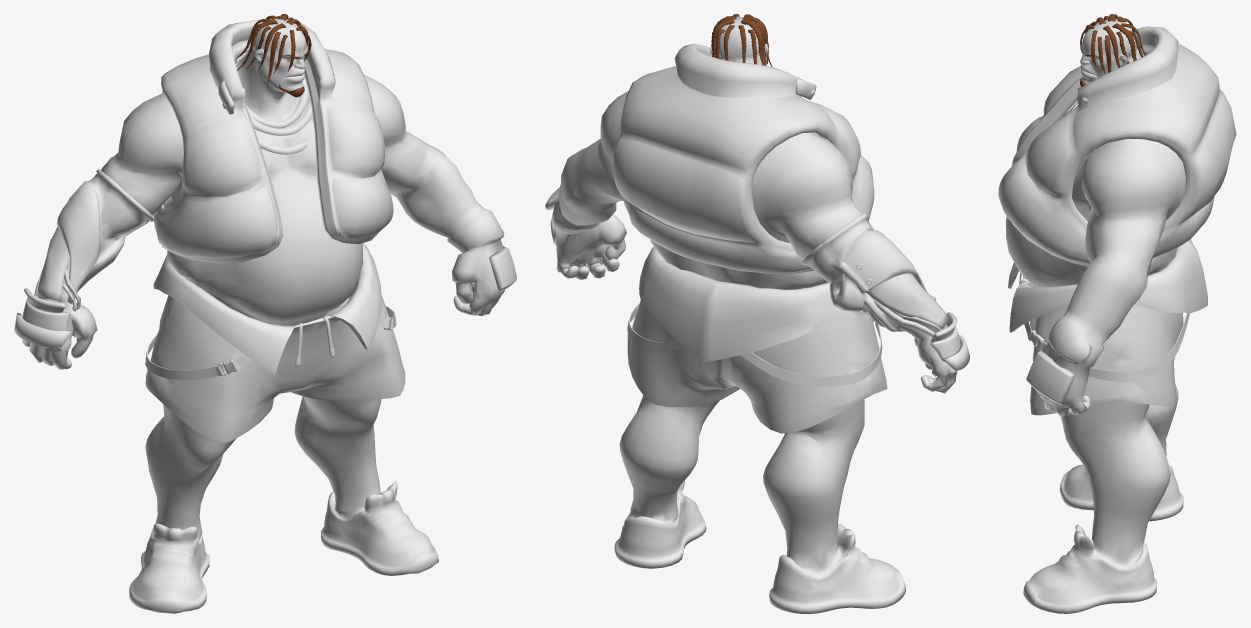
The model's file is fighter_posed_001.glb.
The picture shows the model from 3 angles, left to right: view 1: azimuth 30°, elevation 25°; view 2: azimuth 150°, elevation 25°; view 3: azimuth 270°, elevation 25°; orthographic projection. The views are drawn at different scales.
Visible parts, largest first — view 1: figther_low.003; view 2: figther_low.003; view 3: figther_low.003.
Boxes of the visible parts, x1,y1,x2,y2 form: figther_low.003: (14, 14, 516, 613); figther_low.003: (545, 14, 969, 613); figther_low.003: (998, 14, 1236, 613).
Bounding box in the file's own units: 1.51 × 1.76 × 0.7113.
